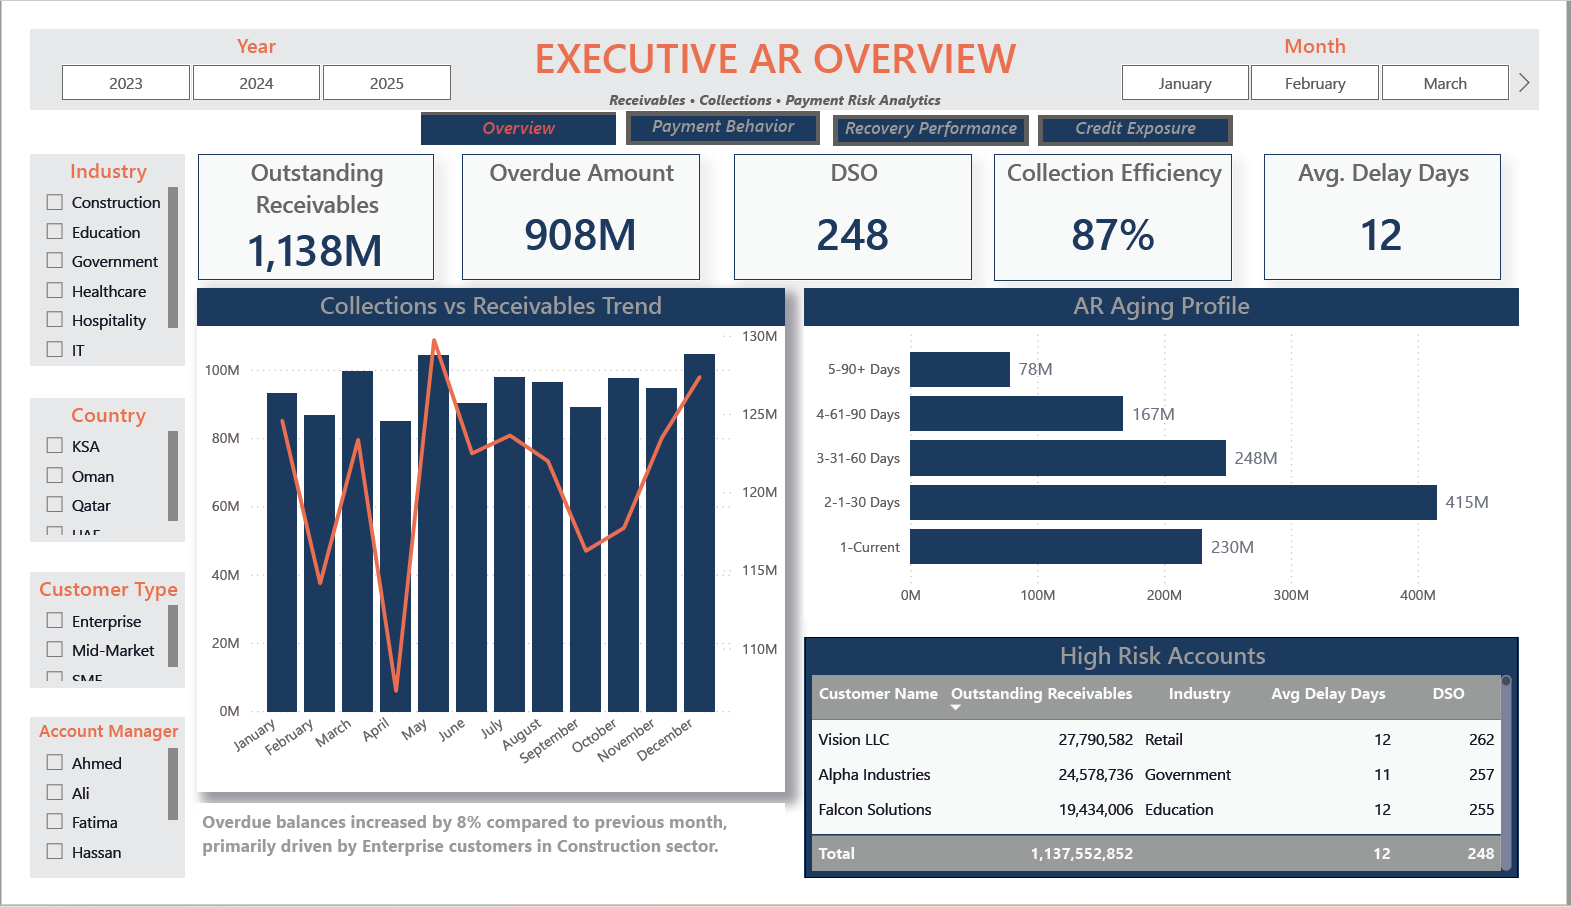

The dashboard page shown, as its layout file describes it:
{"tool":"powerbi","page":{"name":"Executive","canvas":[1280,720],"ordinal":0},"visuals":[{"type":"card","title":"Outstanding Receivables","fields":{"Values":["Calculations (2).Outstanding Receivables"]},"box":[141.7,106.3,201.6,106.3],"z":0},{"type":"card","title":"Overdue Amount","fields":{"Values":["Calculations (2).Overdue Amount"]},"box":[366.5,106.3,201.6,106.3],"z":1000},{"type":"card","title":"DSO","fields":{"Values":["Calculations (2).DSO"]},"box":[597.4,106.3,201.6,106.3],"z":2000},{"type":"card","title":"Collection Efficiency","fields":{"Values":["Calculations (2).Collection Efficiency"]},"box":[818.5,106.3,201.6,107.5],"z":3000},{"type":"card","title":"Avg. Delay Days","fields":{"Values":["Calculations (2).Avg Delay Days"]},"box":[1046.9,106.3,201.6,106.3],"z":4000},{"type":"slicer","title":"Year","fields":{"Values":["Calendar (2).Year"]},"box":[0,0,381.5,68.4],"z":5000},{"type":"textbox","title":"EXECUTIVE AR OVERVIEW","box":[365.1,0,533.7,68.4],"z":6000},{"type":"slicer","title":"Industry","fields":{"Values":["Customers (2).Industry"]},"box":[0,106.3,130.7,178.4],"z":7000},{"type":"slicer","title":"Month","fields":{"Values":["Calendar (2).MonthName"]},"box":[898.7,0,381.5,68.4],"z":8000},{"type":"slicer","title":"Country","fields":{"Values":["Customers (2).Country"]},"box":[0,312.7,130.7,122.2],"z":9000},{"type":"slicer","title":"Customer Type","fields":{"Values":["Customers (2).CustomerType"]},"box":[0,460.5,130.7,99],"z":10000},{"type":"slicer","title":"Account Manager","fields":{"Values":["Customers (2).AccountManager"]},"box":[0,583.9,130.7,135.6],"z":11000},{"type":"lineClusteredColumnComboChart","title":"Collections vs Receivables Trend","fields":{"Category":["Calendar.MonthName"],"Y":["Calculations (2).Outstanding Receivables"],"Y2":["Calculations (2).Total Collections"]},"box":[142.1,220.3,498,426.3],"z":12000},{"type":"clusteredBarChart","title":"AR Aging Profile","fields":{"Category":["Invoices.AgingBucket"],"Y":["Calculations (2).Outstanding Receivables"]},"box":[657.1,220.3,606.2,279],"z":13000},{"type":"tableEx","title":"High Risk Accounts","fields":{"Values":["Customers.CustomerName","Calculations (2).Outstanding Receivables","Customers.Industry","Calculations (2).Avg Delay Days","Calculations (2).DSO"]},"box":[657.1,516.3,606.2,203.4],"z":14000},{"type":"textbox","box":[140.8,657.1,499.3,49.5],"z":15000},{"type":"actionButton","title":"Overview","box":[332.1,71,164.8,26.6],"z":20000,"group":"g1"},{"type":"textbox","title":"Payment Behavior","box":[505.8,71,164.8,26.6],"z":20062,"group":"g1"},{"type":"textbox","title":"Overview","box":[332.1,72.2,164.8,25.4],"z":20125,"group":"g1"},{"type":"textbox","title":"Recovery Performance","box":[682,72.2,164.8,26.6],"z":20250,"group":"g1"},{"type":"textbox","title":"Credit Exposure","box":[855.6,72.2,164.8,26.6],"z":20500,"group":"g1"},{"type":"actionButton","title":"Payment Behavior","box":[505.8,69.7,164.8,27.9],"z":21000,"group":"g1"},{"type":"actionButton","title":"Recovery Performance","box":[682,72.2,164.8,26.6],"z":22000,"group":"g1"},{"type":"actionButton","title":"Credit Exposure","box":[855.6,72.2,164.8,26.6],"z":23000,"group":"g1"},{"type":"group","id":"g1","title":"Top Navigation","box":[332.1,69.7,688.3,29.2],"z":23001}]}

Visuals, with their boxes in screenshot pixels (x1, y1, x2, y2), scaled from the page's 1280x720 canvas onto the 1571x907 screenshot:
"Outstanding Receivables" card: <box>174,134,421,268</box>
"Overdue Amount" card: <box>450,134,697,268</box>
"DSO" card: <box>733,134,981,268</box>
"Collection Efficiency" card: <box>1005,134,1252,269</box>
"Avg. Delay Days" card: <box>1285,134,1532,268</box>
"Year" slicer: <box>0,0,468,86</box>
"EXECUTIVE AR OVERVIEW" textbox: <box>448,0,1103,86</box>
"Industry" slicer: <box>0,134,160,359</box>
"Month" slicer: <box>1103,0,1570,86</box>
"Country" slicer: <box>0,394,160,548</box>
"Customer Type" slicer: <box>0,580,160,705</box>
"Account Manager" slicer: <box>0,736,160,906</box>
"Collections vs Receivables Trend" lineClusteredColumnComboChart: <box>174,278,786,815</box>
"AR Aging Profile" clusteredBarChart: <box>806,278,1551,629</box>
"High Risk Accounts" tableEx: <box>806,650,1551,906</box>
textbox: <box>173,828,786,890</box>
"Overview" actionButton: <box>408,89,610,123</box>
"Payment Behavior" textbox: <box>621,89,823,123</box>
"Overview" textbox: <box>408,91,610,123</box>
"Recovery Performance" textbox: <box>837,91,1039,124</box>
"Credit Exposure" textbox: <box>1050,91,1252,124</box>
"Payment Behavior" actionButton: <box>621,88,823,123</box>
"Recovery Performance" actionButton: <box>837,91,1039,124</box>
"Credit Exposure" actionButton: <box>1050,91,1252,124</box>
"Top Navigation" group: <box>408,88,1252,125</box>
